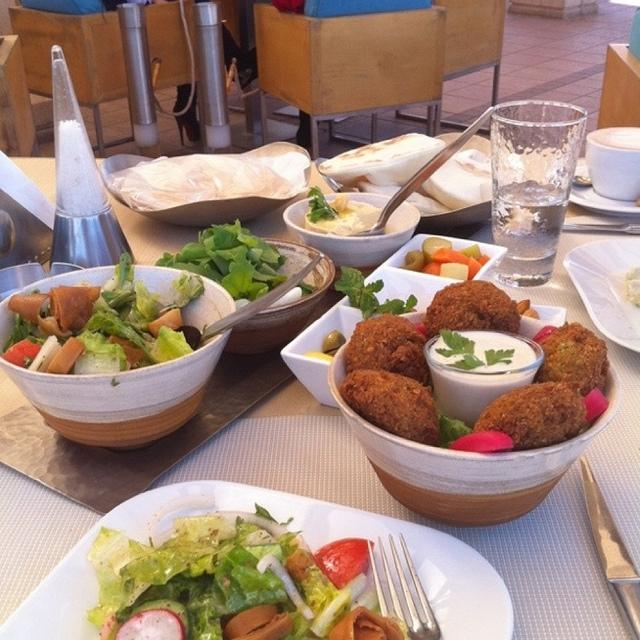lettuce: (115, 570, 222, 640), (212, 543, 288, 614), (82, 309, 160, 364), (172, 516, 235, 548), (125, 281, 160, 331), (207, 244, 248, 276), (100, 289, 136, 309), (246, 248, 264, 270)
radish: (114, 608, 187, 640)
tomato: (313, 538, 375, 590), (446, 430, 514, 452), (1, 339, 42, 369), (584, 388, 610, 426)
